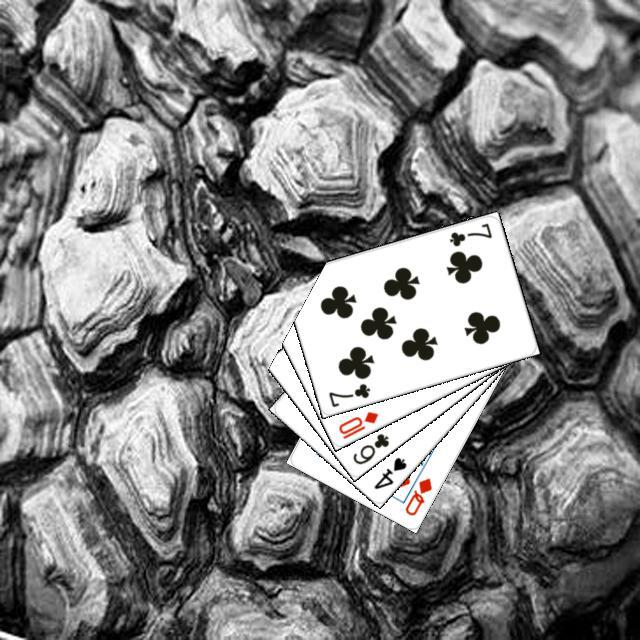10d: (334, 406, 380, 441)
4s: (369, 452, 408, 491)
6c: (348, 428, 391, 466)
7c: (323, 378, 372, 409), (444, 218, 494, 248)
Qd: (400, 473, 434, 517)
